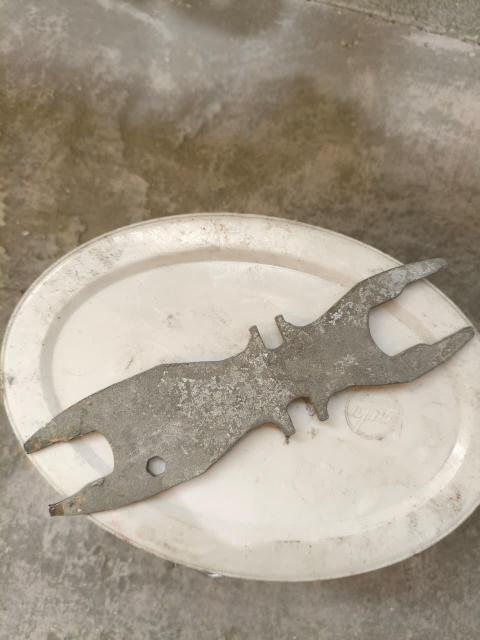Metal: (23, 250, 478, 518)
